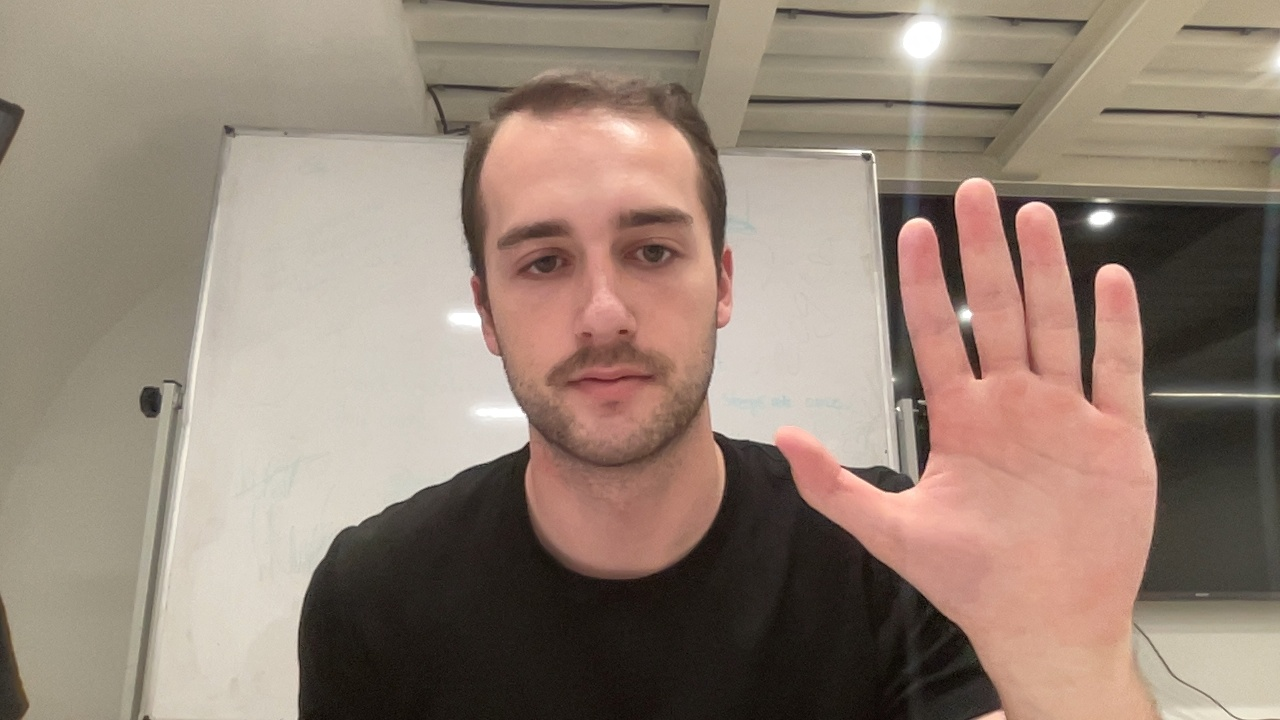Hello: (774, 171, 1161, 673)
